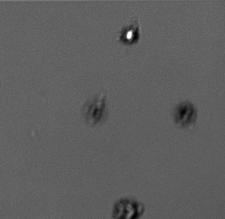Dead Cell: (83, 98, 108, 124), (113, 199, 140, 219), (175, 102, 194, 125)
Living Cell: (119, 26, 139, 44)
